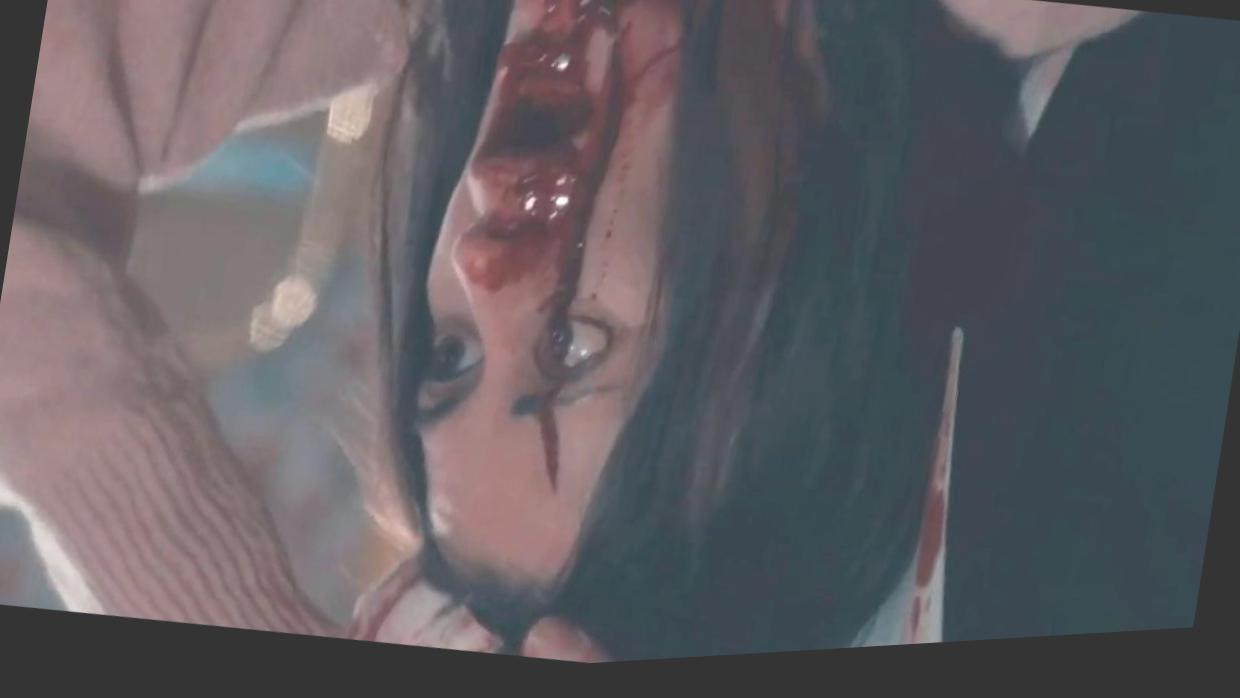Fire: (341, 0, 817, 670), (899, 343, 968, 656)
